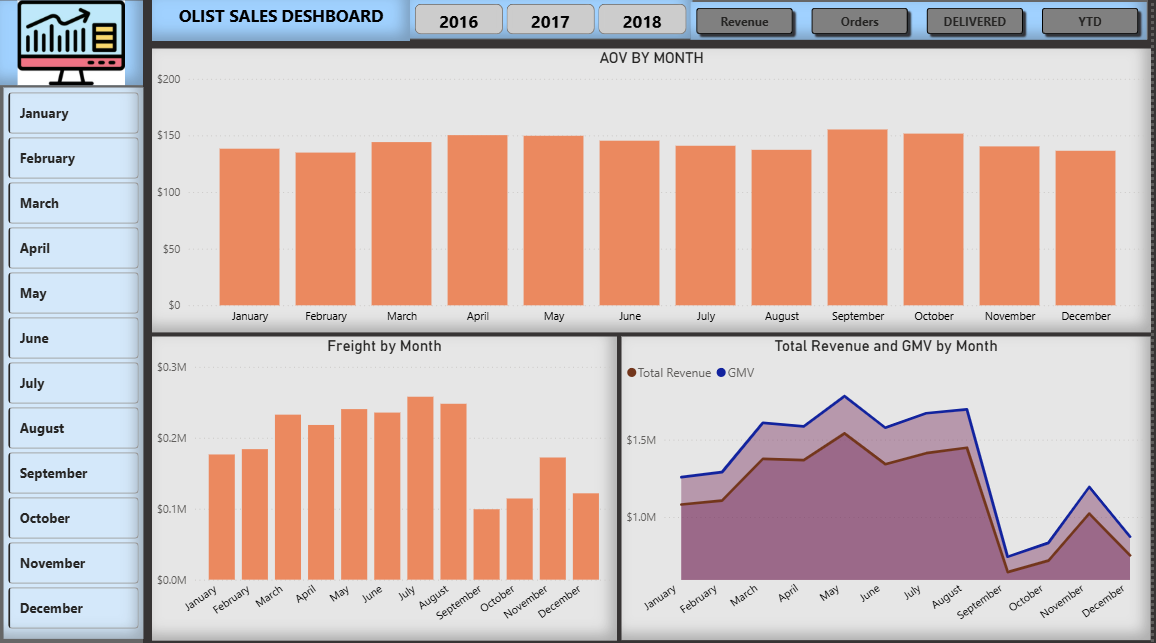

What the dashboard file says about the page in this screenshot:
{"tool":"powerbi","page":{"name":"GMV&FREIGHT","canvas":[1280,720],"ordinal":3},"visuals":[{"type":"shape","box":[0,0,160,720],"z":0},{"type":"shape","box":[170,0,1106.7,45],"z":1000},{"type":"advancedSlicerVisual","fields":{"Values":["custom date.Date.Variation.Date Hierarchy.Month"]},"box":[5,97.5,155,612.5],"z":2000},{"type":"advancedSlicerVisual","fields":{"Values":["custom date.Date.Variation.Date Hierarchy.Year"]},"box":[456,0,314,44],"z":3000},{"type":"lineChart","fields":{"Y":["public olist_master_cleaned.Total Revenue","public olist_master_cleaned.GMV"],"Category":["custom date.Date.Variation.Date Hierarchy.Month"]},"box":[692.1,375,587.9,337.1],"z":4000},{"type":"clusteredColumnChart","fields":{"Category":["custom date.Date.Variation.Date Hierarchy.Month"],"Y":["public olist_master_cleaned.Freight"]},"box":[170,375,516.4,337.9],"z":5000},{"type":"clusteredColumnChart","title":"AOV BY MONTH","fields":{"Y":["public olist_master_cleaned.AOV"],"Category":["custom date.Date.Variation.Date Hierarchy.Month"]},"box":[170,55,1110,315],"z":6000},{"type":"pageNavigator","box":[769.1,3.2,506.8,42.1],"z":7000},{"type":"textbox","box":[170,0,286.7,46.7],"z":8000},{"type":"image","box":[0,1.6,160.3,93.9],"z":9000}]}

Visuals, with their boxes in screenshot pixels (x1, y1, x2, y2), scaled from the page's 1280x720 canvas onto the 1156x643 screenshot:
shape: x1=0 y1=0 x2=144 y2=642
shape: x1=154 y1=0 x2=1153 y2=40
advancedSlicerVisual - custom date.Date.Variation.Date Hierarchy.Month: x1=5 y1=87 x2=144 y2=634
advancedSlicerVisual - custom date.Date.Variation.Date Hierarchy.Year: x1=412 y1=0 x2=695 y2=39
lineChart - public olist_master_cleaned.Total Revenue x public olist_master_cleaned.GMV: x1=625 y1=335 x2=1155 y2=636
clusteredColumnChart - custom date.Date.Variation.Date Hierarchy.Month x public olist_master_cleaned.Freight: x1=154 y1=335 x2=620 y2=637
"AOV BY MONTH" clusteredColumnChart: x1=154 y1=49 x2=1155 y2=330
pageNavigator: x1=695 y1=3 x2=1152 y2=40
textbox: x1=154 y1=0 x2=412 y2=42
image: x1=0 y1=1 x2=145 y2=85
